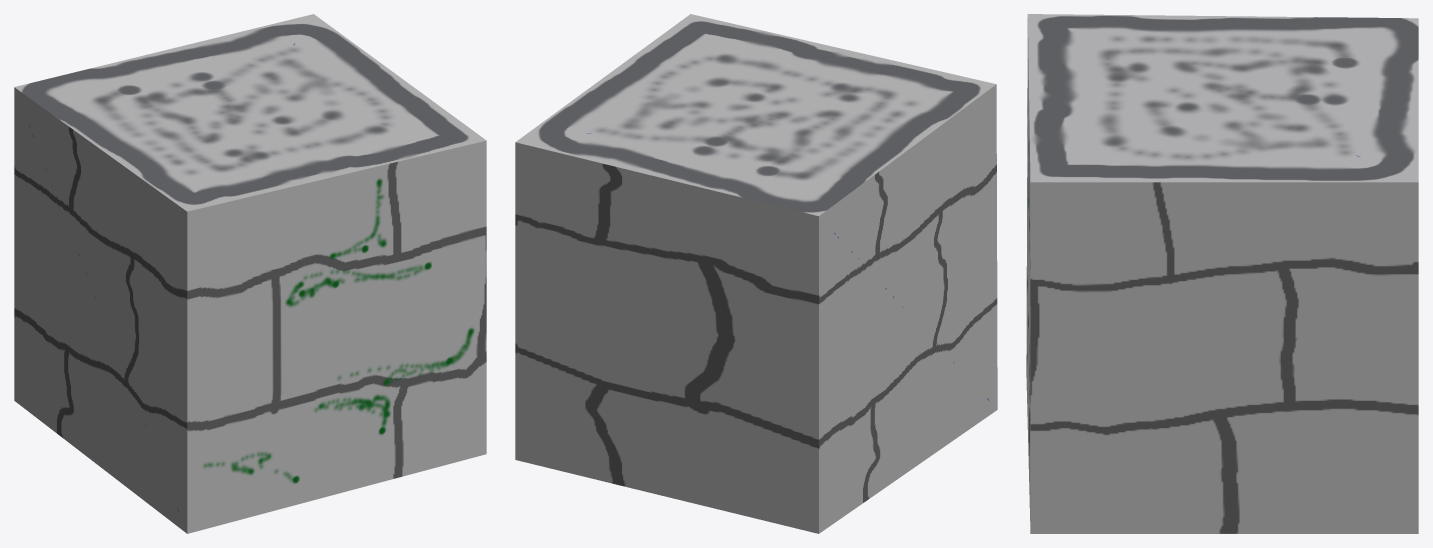
Rendered from barrier.glb.
3 views of the same model, side by side, from view 1: azimuth 30°, elevation 25°; view 2: azimuth 150°, elevation 25°; view 3: azimuth 270°, elevation 25° (orthographic). The views are drawn at different scales.
Visible parts, largest first — view 1: Cube; view 2: Cube; view 3: Cube.
Part boxes in pixels (box(x1,y1,x2,y2)): Cube: box(14, 14, 486, 533); Cube: box(515, 14, 997, 533); Cube: box(1026, 14, 1418, 533).
Bounding box in the file's own units: 0.5027 × 0.5131 × 0.5052.
Materials: 1 (1 with a texture image).
